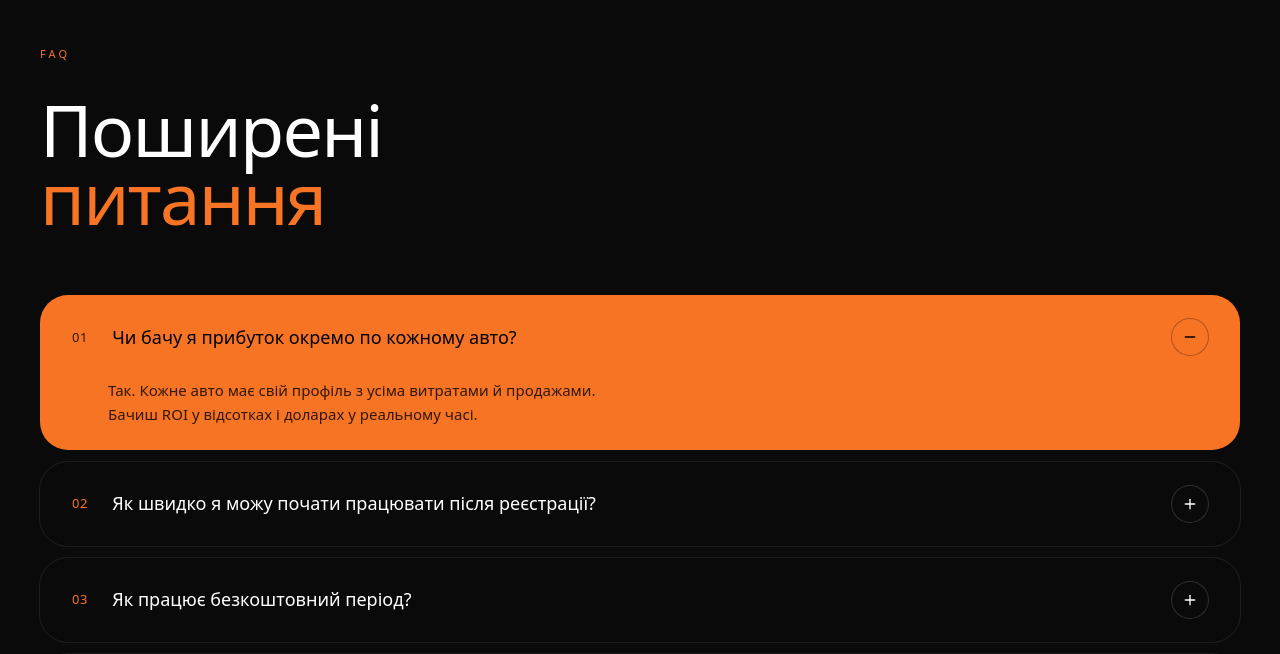
publishes the canonical trial and team limits
Click the button "03 Як працює безкоштовний період?": [262, 599] box left=40, top=558, right=1240, bottom=642
(page scrolled)
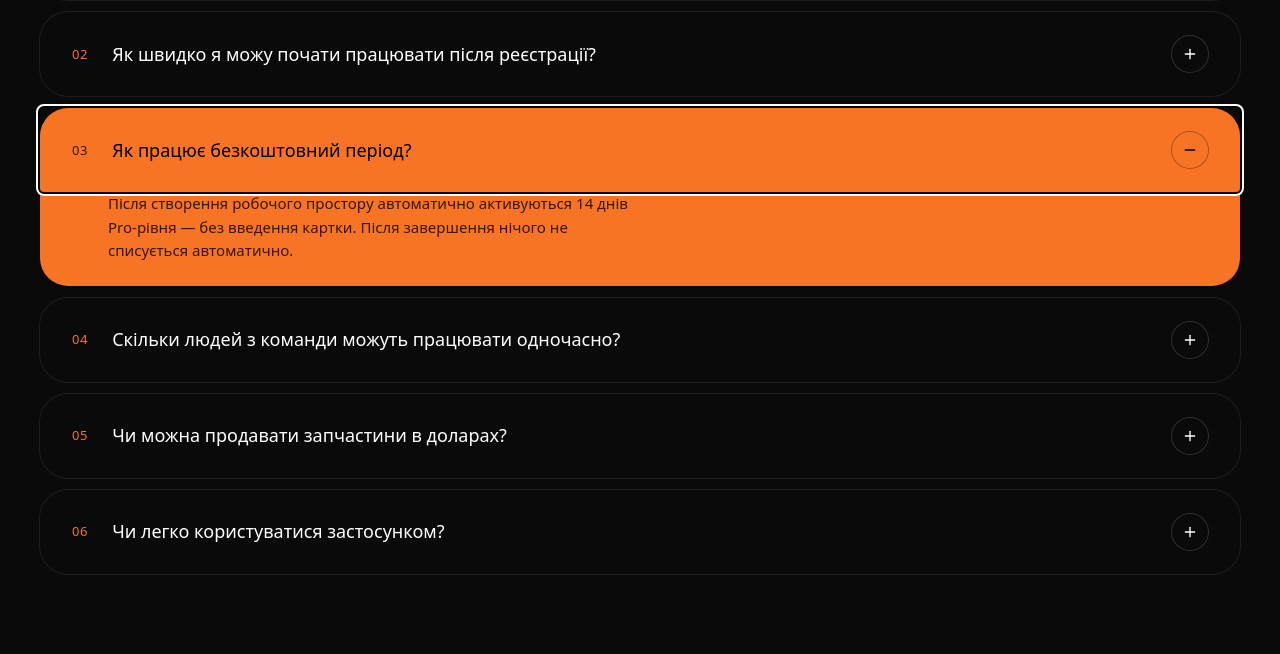
Expected: the text "14 днів Pro-рівня" is shown, left=108, top=193, right=628, bottom=260
Click the button "Скільки людей з команди можуть працювати одночасно?": [366, 339] box left=40, top=298, right=1240, bottom=382
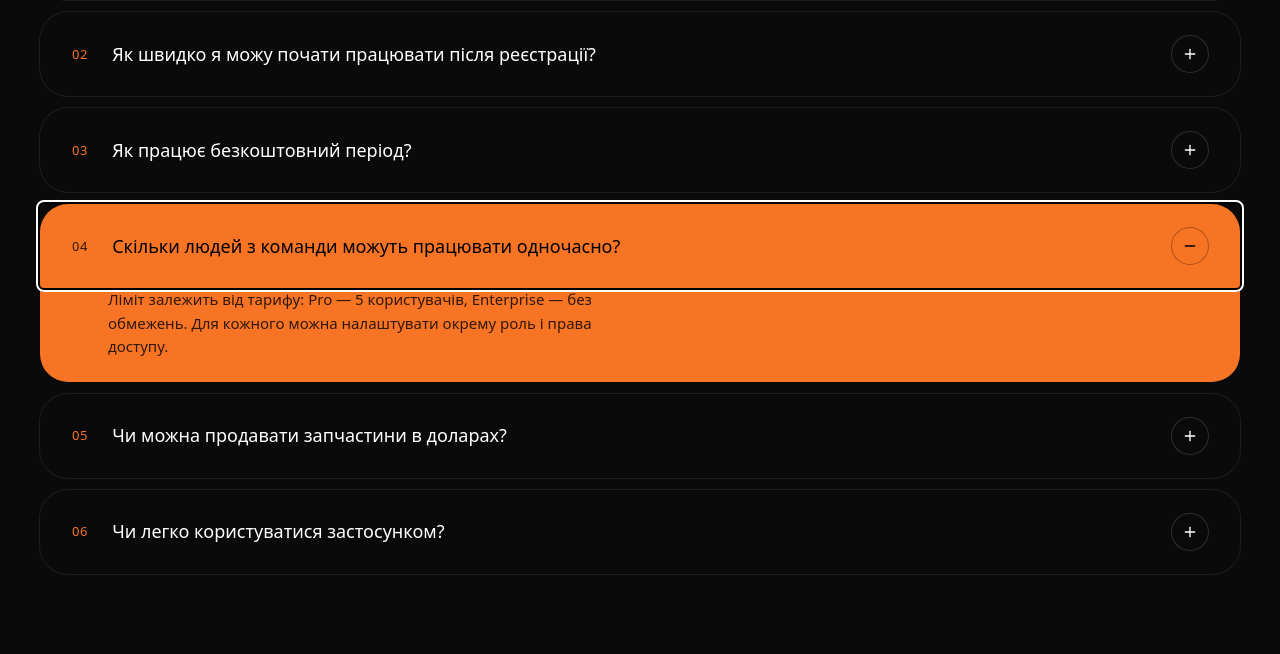
Expected: the text "Pro — 5 користувачів" is shown, left=108, top=289, right=592, bottom=356
